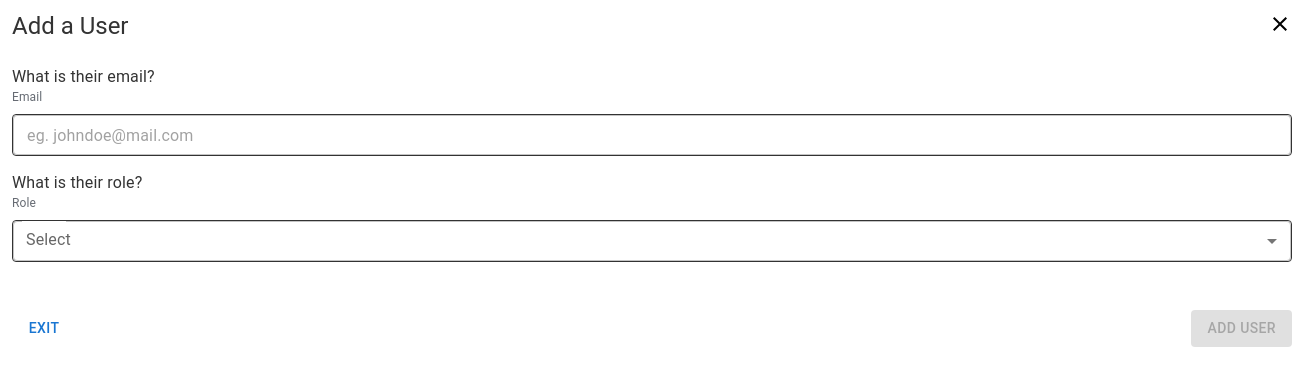
Test: Add User Component › should show error when no role is selected
Press the mouse on the dropdown at {"x": 652, "y": 241}, box top-left (13, 221), bottom-right (1291, 261)
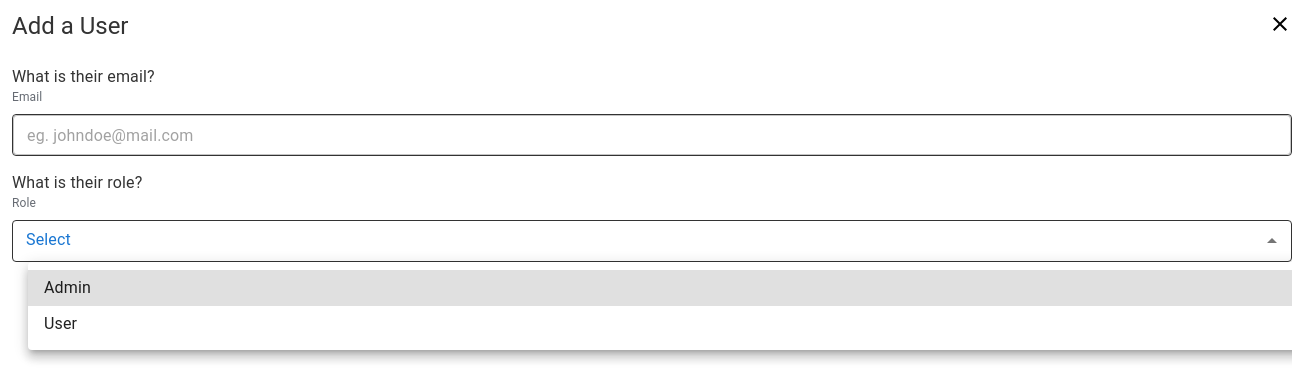
Press Escape in the option "Admin", box top-left (28, 270), bottom-right (1292, 306)
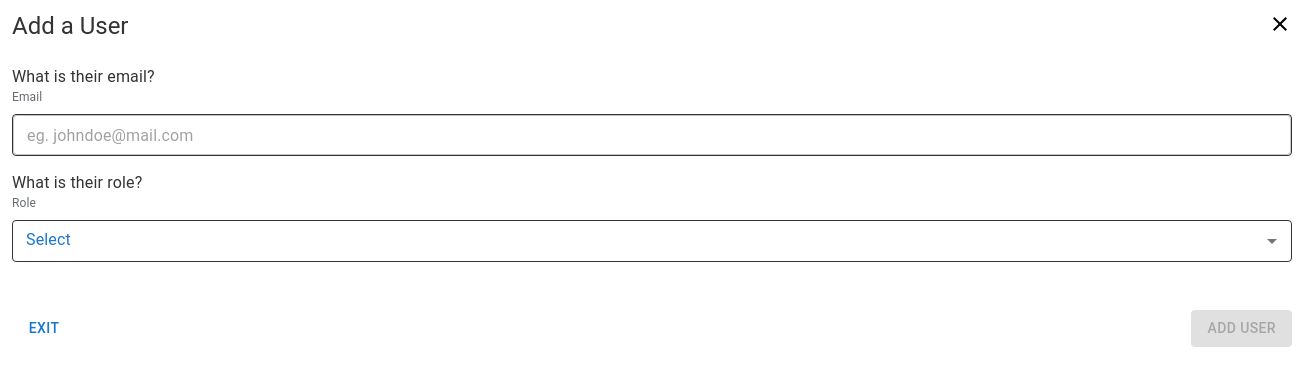
Expected: the text "Select" is shown, top-left (26, 228), bottom-right (71, 251)
Expected: the option with test id "option" is gone
Leave the dropdown, box top-left (13, 221), bottom-right (1291, 261)
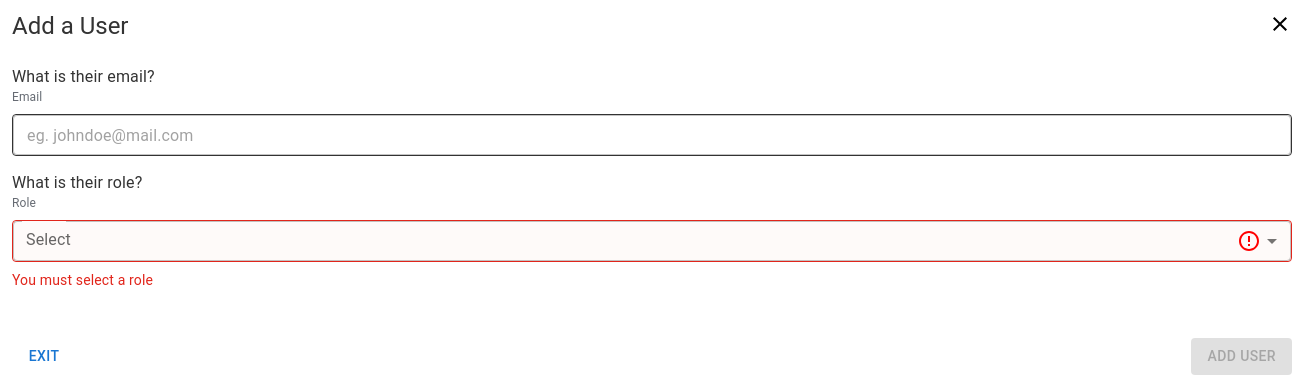
Expected: the text "You must select a role" is shown, top-left (12, 272), bottom-right (153, 288)
